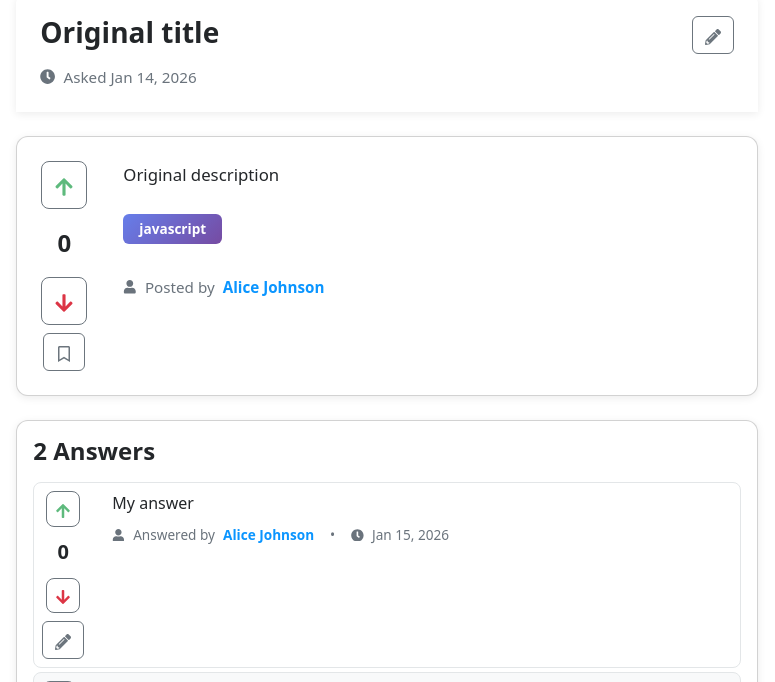
Test case: Edit Posts Integration Tests (Redux + rendered QuestionDetail) › editing an answer the current user authored saves and shows the updated text in place
Expected: the text "My answer" is shown, [112,492,194,514]
Click the button named "edit" below "My answer". click: (63, 640)
box: [42,621,84,659]
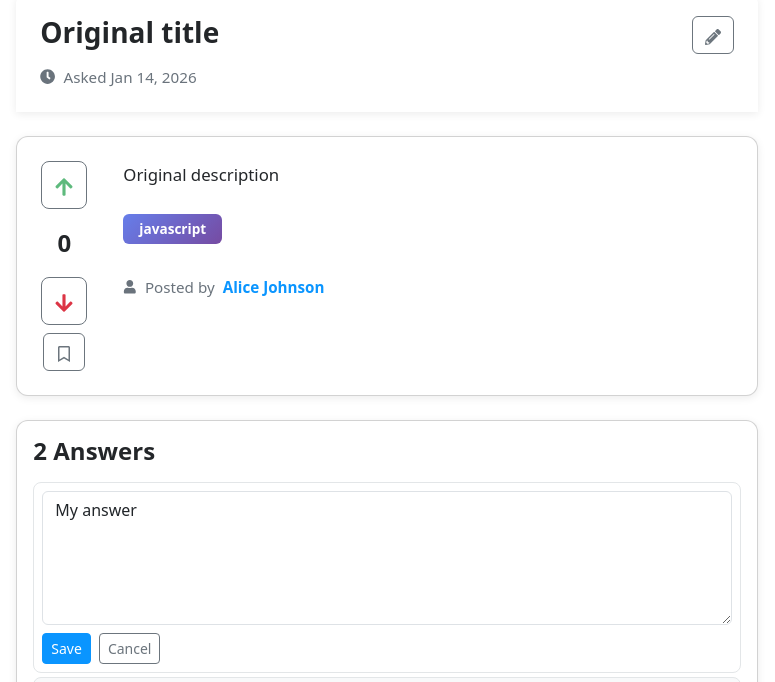
Replace the text in the text box showing "My answer" with "My updated answer". click: (387, 558)
box: [42,491,732,625]
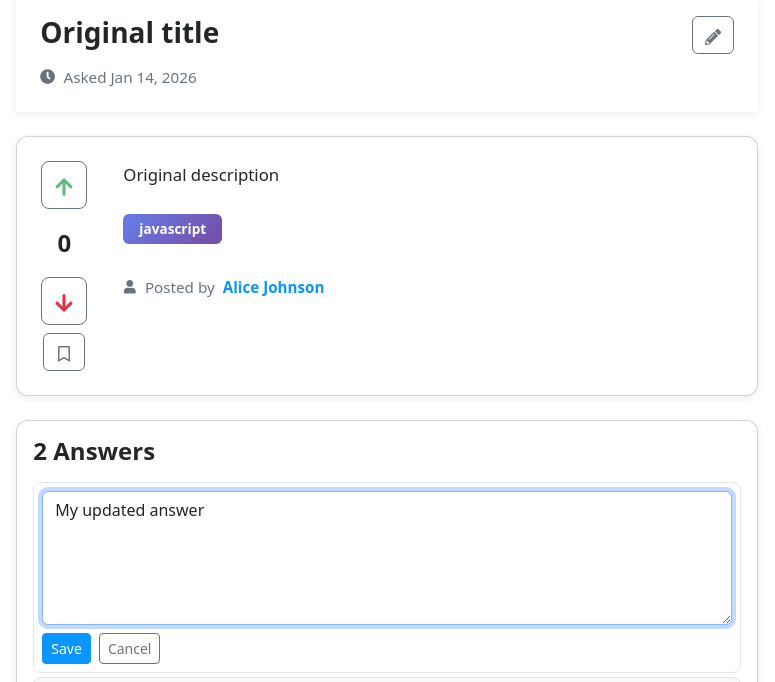
Click the button "Save". click: (67, 649)
box: [42,633,91,664]
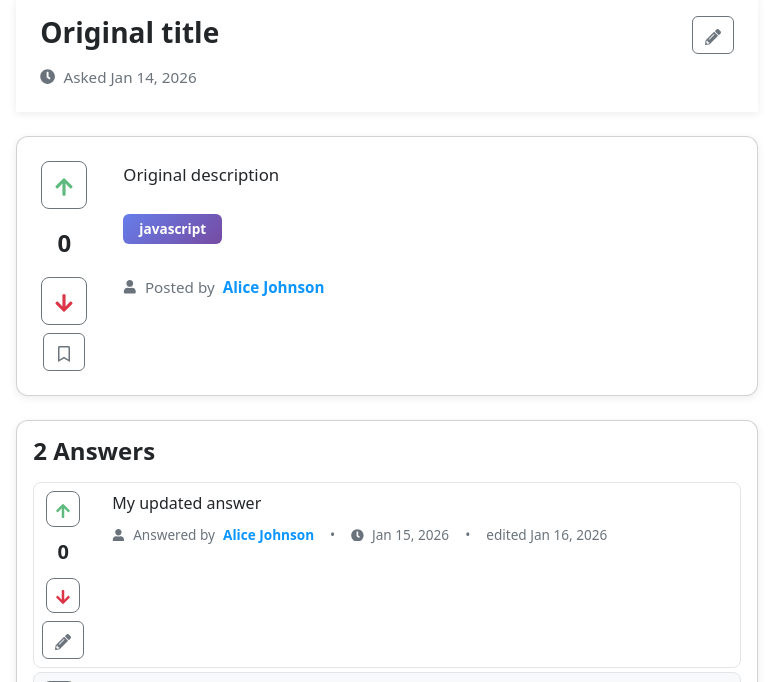
Expected: the text "My answer" is not shown
Now the text "My updated answer" is shown, box [112,492,261,514]
